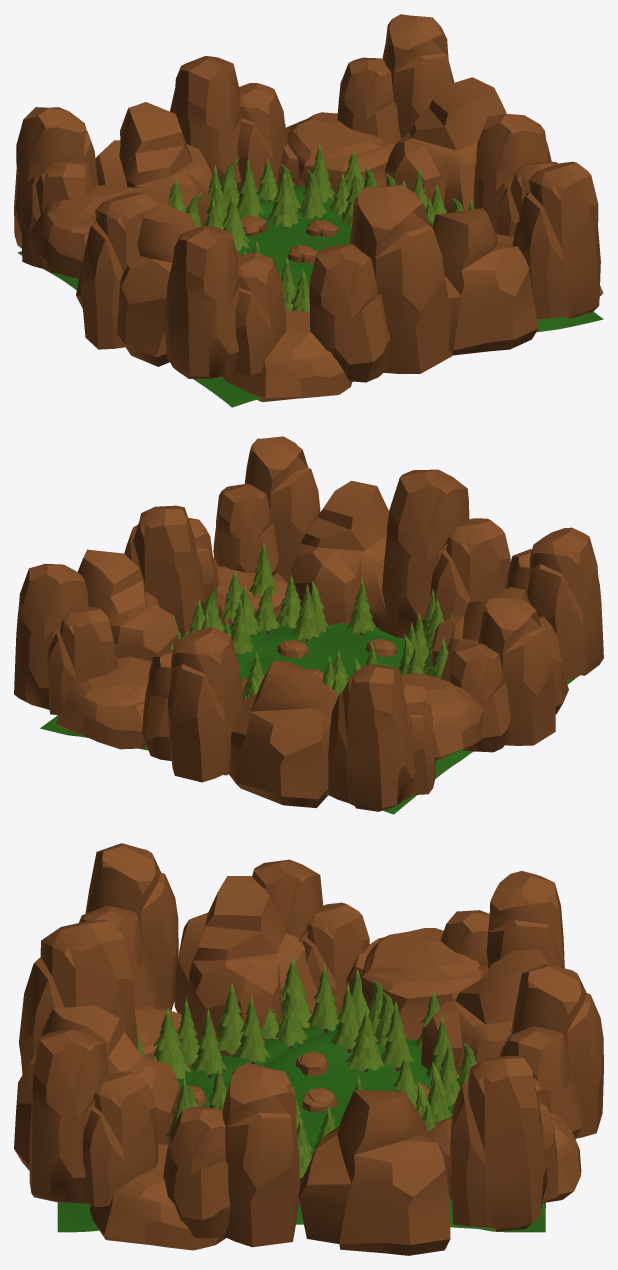
The picture shows the model from 3 angles, top to bottom: view 1: azimuth 30°, elevation 25°; view 2: azimuth 150°, elevation 25°; view 3: azimuth 270°, elevation 25°; orthographic projection. The views are drawn at different scales.
Parts seen in each view (by area): view 1: Rock_Large_3.004, Rock_Large_3.005, Rock_2.003, Rock_Large_3.007, Rock_Large_3, Rock_Large_3.001, Rock_2, Rock_Large_3.003, Rock_2.001, Rock_Large_3.002, Rock_2.002, Rock_Large_3.006 (+11 smaller); view 2: Rock_Large_3.004, Rock_Large_3.003, Rock_Large_3, Rock_2.001, Rock_Large_3.002, Rock_Large_3.001, Rock_Large_3.007, Rock_2.003, Rock_Large_3.005, Rock_Large_3.006, Rock_2, Rock_Large_1 (+12 smaller); view 3: Rock_2, Rock_Large_3.006, Rock_Large_3.007, Rock_Large_3.001, Rock_2.002, Rock_Large_3, Rock_Large_3.005, Rock_Large_3.004, Plane, Rock_Large_1.001, Rock_Large_3.003, Rock_Large_3.002 (+23 smaller).
Boxes of the visible parts, left/top/right/bottom form: Rock_Large_3.004: left=309, top=184, right=452, bottom=382; Rock_Large_3.005: left=164, top=225, right=286, bottom=378; Rock_2.003: left=432, top=208, right=538, bottom=355; Rock_Large_3.007: left=512, top=161, right=600, bottom=319; Rock_Large_3: left=170, top=56, right=287, bottom=196; Rock_Large_3.001: left=337, top=14, right=454, bottom=143; Rock_2: left=384, top=77, right=506, bottom=212; Rock_Large_3.003: left=14, top=107, right=98, bottom=273; Rock_2.001: left=95, top=102, right=227, bottom=225; Rock_Large_3.002: left=76, top=192, right=158, bottom=349; Rock_2.002: left=117, top=206, right=240, bottom=366; Rock_Large_3.006: left=473, top=114, right=557, bottom=236; Rock_Large_3.004: left=379, top=469, right=510, bottom=637; Rock_Large_3.003: left=328, top=664, right=435, bottom=811; Rock_Large_3: left=142, top=627, right=242, bottom=782; Rock_2.001: left=229, top=660, right=338, bottom=808; Rock_Large_3.002: left=449, top=596, right=555, bottom=752; Rock_Large_3.001: left=14, top=563, right=117, bottom=715; Rock_Large_3.007: left=213, top=436, right=320, bottom=583; Rock_2.003: left=291, top=480, right=389, bottom=627; Rock_Large_3.005: left=505, top=527, right=603, bottom=680; Rock_Large_3.006: left=124, top=505, right=219, bottom=637; Rock_2: left=78, top=549, right=178, bottom=660; Rock_Large_1: left=56, top=656, right=151, bottom=749; Rock_2: left=298, top=1090, right=450, bottom=1255; Rock_Large_3.006: left=163, top=1063, right=299, bottom=1247; Rock_Large_3.007: left=29, top=1029, right=158, bottom=1207; Rock_Large_3.001: left=449, top=1055, right=557, bottom=1231; Rock_2.002: left=174, top=876, right=317, bottom=1056; Rock_Large_3: left=499, top=963, right=603, bottom=1138; Rock_Large_3.005: left=79, top=843, right=178, bottom=1010; Rock_Large_3.004: left=19, top=919, right=138, bottom=1074; Plane: left=57, top=1024, right=545, bottom=1232; Rock_Large_1.001: left=346, top=928, right=485, bottom=1039; Rock_Large_3.003: left=440, top=871, right=564, bottom=976; Rock_Large_3.002: left=252, top=859, right=369, bottom=1015.
Bounding box in the file's own units: 635 × 235 × 605.
6 materials, 3 textured.
